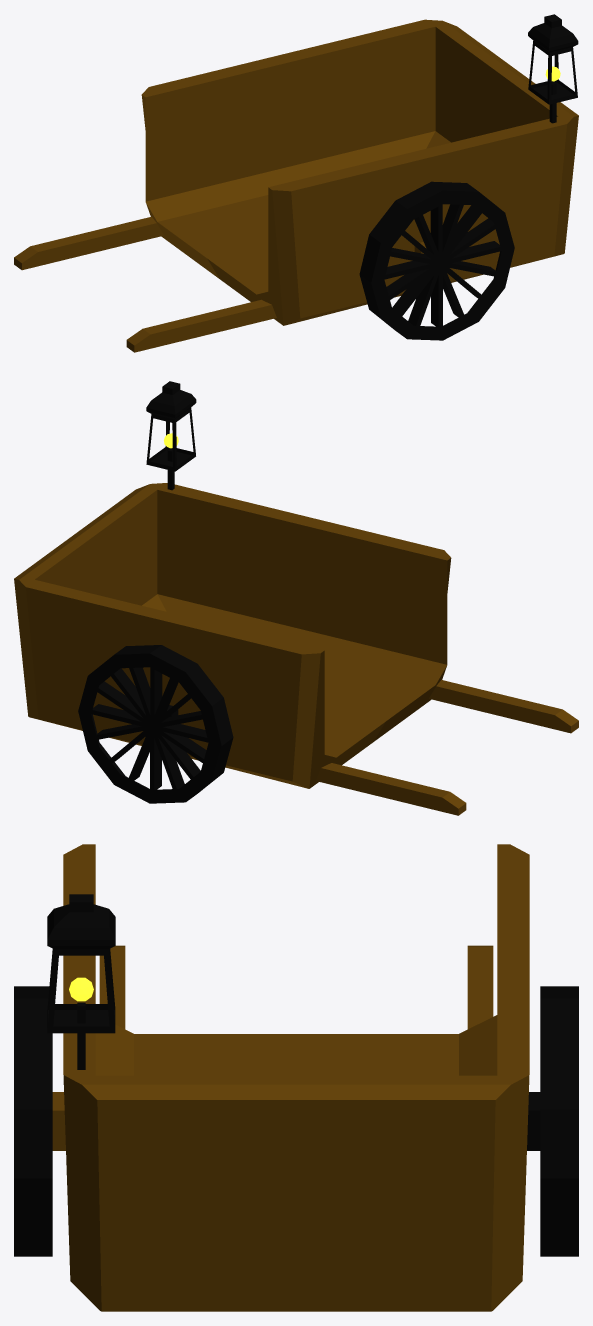
File: player_cart_0001_export.glb
3 views of the same model, one above another, from view 1: azimuth 30°, elevation 25°; view 2: azimuth 150°, elevation 25°; view 3: azimuth 270°, elevation 25° (orthographic). The views are drawn at different scales.
Parts seen in each view (by area): view 1: cart; view 2: cart; view 3: cart.
Part boxes in pixels (x1,y1,x2,y2): cart: (14, 14, 578, 352); cart: (14, 381, 578, 815); cart: (14, 844, 578, 1311).
Size of the model in its own units: 3.6 by 2.13 by 2.42.
